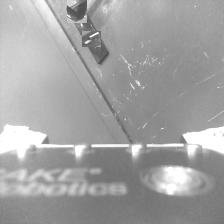Door Handle: (66, 0, 89, 21)
Lock: (82, 32, 101, 47)
